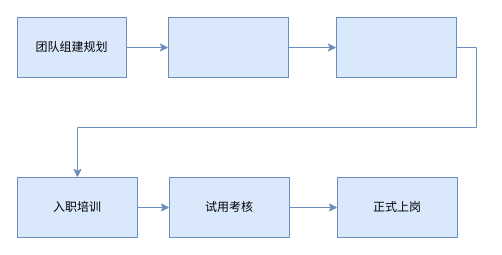
Some shapes in this 502 by 255 pixel diagram are drawn without their labels. The shapes that lost their labels are listed below. From the top down, each one's centre as x and y in pixels, then its label:
[228,47]: 报公司审核
[396,47]: 成员招聘
